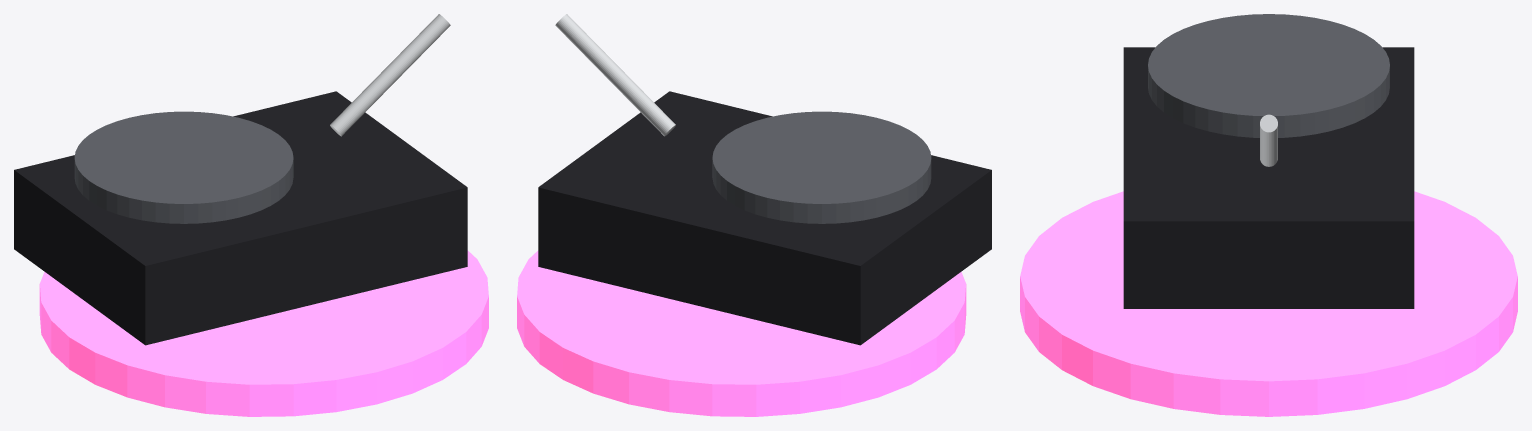
Rendered from music_turntable.glb.
3 renders of one model, left to right at view 1: azimuth 30°, elevation 25°; view 2: azimuth 150°, elevation 25°; view 3: azimuth 270°, elevation 25°, orthographic. The views are drawn at different scales.
Parts seen in each view (by area): view 1: 07_17_Popular_Music_Turntable_part_01, 07_17_Popular_Music_Turntable_ROOT_base, 07_17_Popular_Music_Turntable_part_02, 07_17_Popular_Music_Turntable_part_03; view 2: 07_17_Popular_Music_Turntable_part_01, 07_17_Popular_Music_Turntable_ROOT_base, 07_17_Popular_Music_Turntable_part_02, 07_17_Popular_Music_Turntable_part_03; view 3: 07_17_Popular_Music_Turntable_ROOT_base, 07_17_Popular_Music_Turntable_part_01, 07_17_Popular_Music_Turntable_part_02, 07_17_Popular_Music_Turntable_part_03.
Part boxes in pixels (x1=…): 07_17_Popular_Music_Turntable_part_01: x1=14, y1=91, x2=467, y2=345; 07_17_Popular_Music_Turntable_ROOT_base: x1=39, y1=250, x2=488, y2=416; 07_17_Popular_Music_Turntable_part_02: x1=74, y1=111, x2=293, y2=223; 07_17_Popular_Music_Turntable_part_03: x1=330, y1=14, x2=450, y2=136; 07_17_Popular_Music_Turntable_part_01: x1=538, y1=91, x2=991, y2=345; 07_17_Popular_Music_Turntable_ROOT_base: x1=517, y1=250, x2=966, y2=416; 07_17_Popular_Music_Turntable_part_02: x1=712, y1=111, x2=931, y2=223; 07_17_Popular_Music_Turntable_part_03: x1=555, y1=14, x2=675, y2=136; 07_17_Popular_Music_Turntable_ROOT_base: x1=1020, y1=191, x2=1517, y2=416; 07_17_Popular_Music_Turntable_part_01: x1=1123, y1=47, x2=1414, y2=308; 07_17_Popular_Music_Turntable_part_02: x1=1148, y1=14, x2=1389, y2=137; 07_17_Popular_Music_Turntable_part_03: x1=1260, y1=114, x2=1277, y2=166.
Bounding box in the file's own units: 0.76 × 0.4924 × 0.76.
